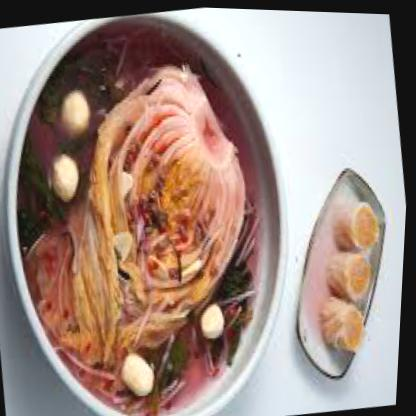baek Kimchi: (0, 16, 305, 409)
